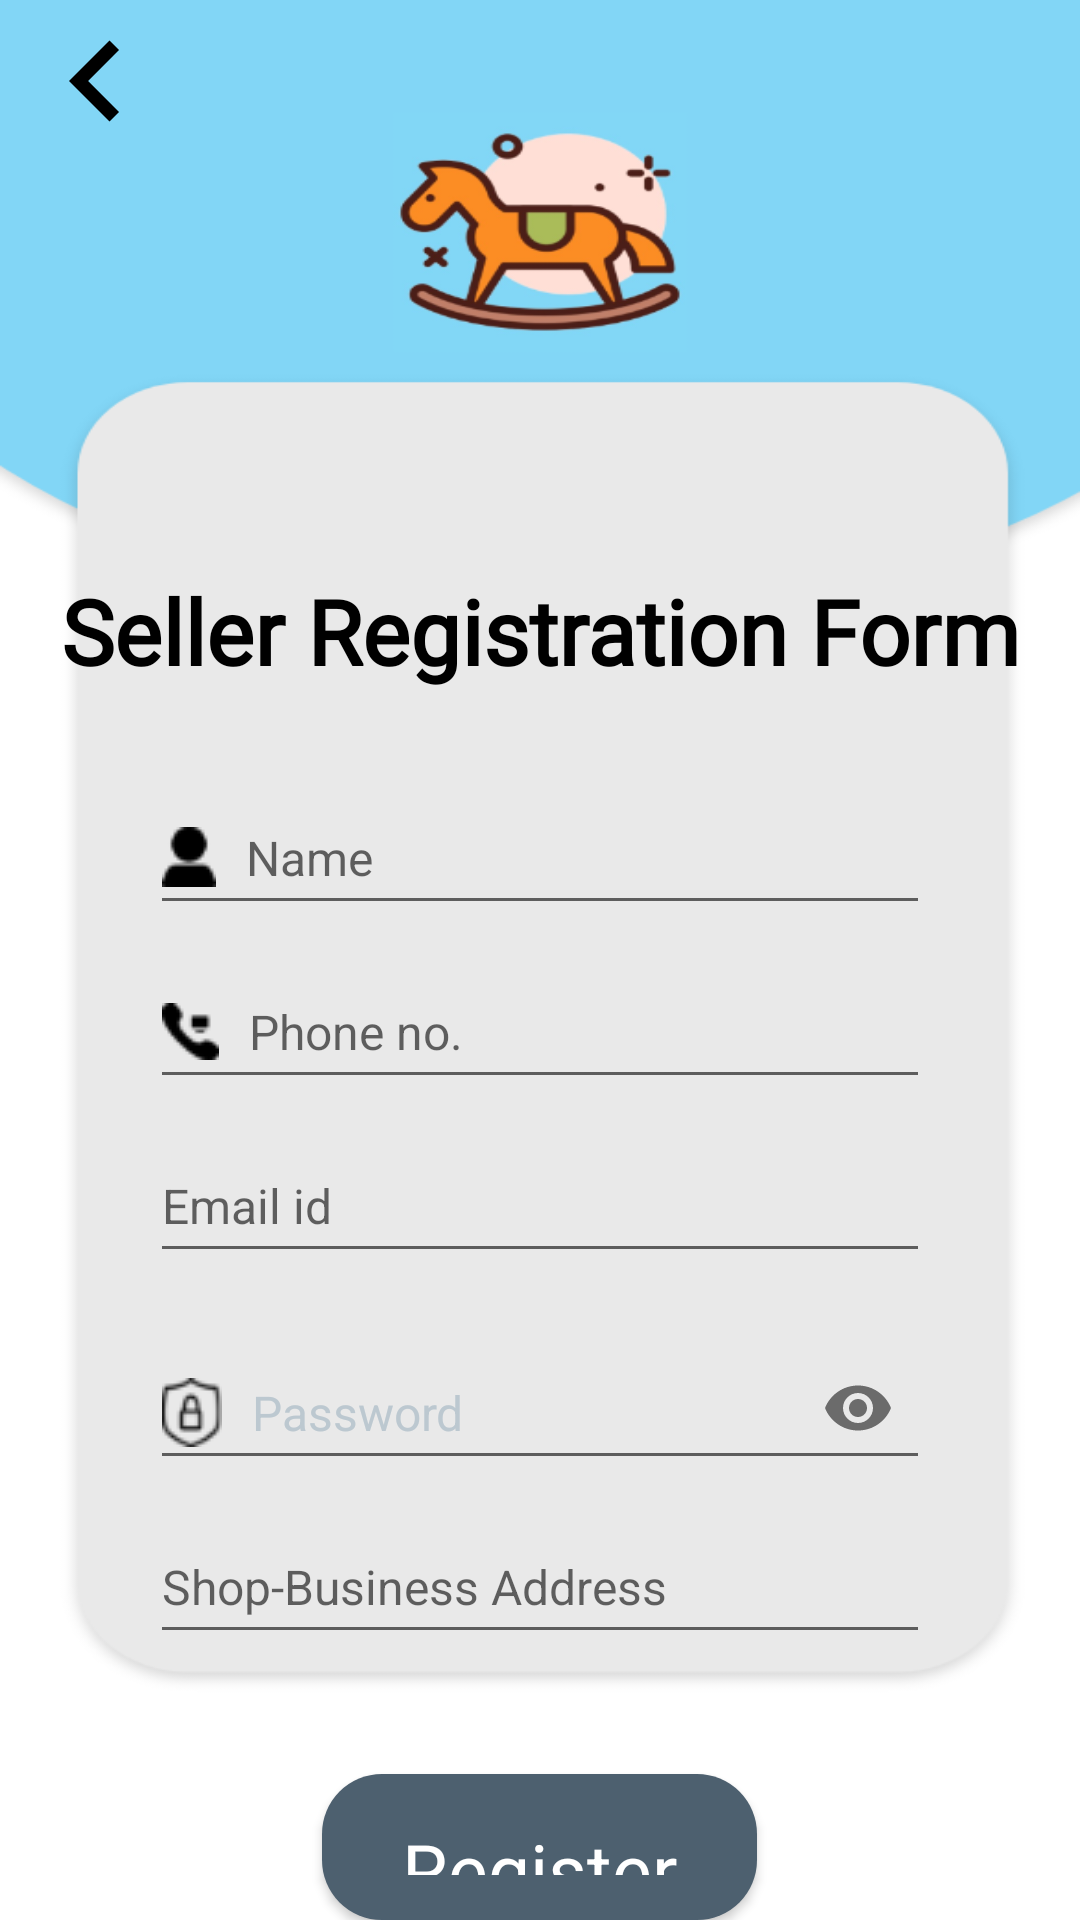

Icon click points for this 1080 x 1920 phone screenshot, format point (x, y):
keyboard arrow left: point (94, 81)
